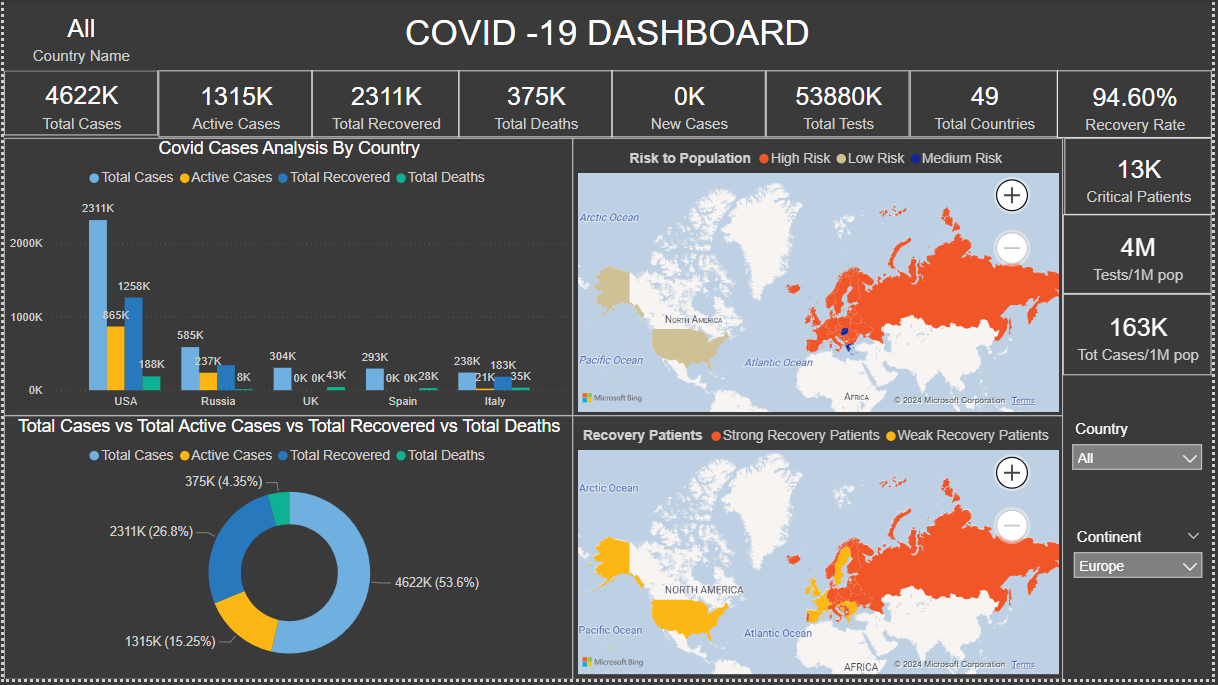

Layout of this report page (visuals, bound fields, positions):
{"tool":"powerbi","page":{"name":"Dashboard","canvas":[1280,720],"ordinal":0},"visuals":[{"type":"textbox","title":"COVID -19 DASHBOARD","box":[404.8,12.8,472,51.2],"z":0},{"type":"card","fields":{"Values":["Sum(Covid_data.TotalCases)"]},"box":[0,75.2,163.2,68.8],"z":1000},{"type":"card","fields":{"Values":["Sum(Covid_data.TotalRecovered)"]},"box":[326.4,75.2,156.8,70.4],"z":2000},{"type":"card","fields":{"Values":["Sum(Covid_data.Total Deaths)"]},"box":[481.6,75.2,163.2,70.4],"z":3000},{"type":"card","fields":{"Values":["Sum(Covid_data.ActiveCases)"]},"box":[163.2,75.2,163.2,70.4],"z":4000},{"type":"card","fields":{"Values":["Sum(Covid_data.New Cases)"]},"box":[644.8,75.2,163.2,70.4],"z":5000},{"type":"card","fields":{"Values":["Sum(Covid_data.Total Tests)"]},"box":[808,75.2,152,70.4],"z":6000},{"type":"card","fields":{"Values":["Count(Covid_data.Country)"]},"box":[960,75.2,156.8,70.4],"z":7000},{"type":"card","fields":{"Values":["Avg(Covid_data.PopulationImmunity)"]},"box":[1116.6,74.8,163.8,71.6],"z":8000},{"type":"clusteredColumnChart","title":"Covid Cases Analysis By Country","fields":{"Category":["Covid_data.Country"],"Y":["Sum(Covid_data.Total Cases)","Sum(Covid_data.Active Cases)","Sum(Covid_data.Total Recovered)","Sum(Covid_data.Total Deaths)"]},"box":[0,145.6,603.2,294.4],"z":9000},{"type":"donutChart","title":"Total Cases vs Total Active Cases vs Total Recovered vs Total Deaths","fields":{"Y":["Sum(Covid_data.Total Cases)","Sum(Covid_data.Active Cases)","Sum(Covid_data.Total Recovered)","Sum(Covid_data.Total Deaths)"]},"box":[0,440,603.2,280],"z":11000},{"type":"filledMap","fields":{"Category":["Covid_data.Country"],"Series":["Covid_data.RisktoPopulation"]},"box":[603.2,145.6,520,294.4],"z":12000},{"type":"filledMap","fields":{"Category":["Covid_data.Country"],"Series":["Covid_data.RecoveryPatients"]},"box":[603.2,440,520,280],"z":13000},{"type":"slicer","fields":{"Values":["Covid_data.Country"]},"box":[1123,440.6,157.5,100.2],"z":14000},{"type":"card","fields":{"Values":["Sum(Covid_data.Critical Patients)"]},"box":[1124.6,146.3,155.9,81.1],"z":15000},{"type":"card","fields":{"Values":["Sum(Covid_data.Tests/1M pop)"]},"box":[1123,227.5,157.5,84.3],"z":16000},{"type":"card","fields":{"Values":["Sum(Covid_data.Tot Cases/1M pop)"]},"box":[1123,311.8,157.5,85.9],"z":17000},{"type":"slicer","fields":{"Values":["Covid_data.Continent"]},"box":[1124.6,555.1,155.9,90.7],"z":18000},{"type":"card","fields":{"Values":["Covid_data.Country Card"]},"box":[0,1.6,163.2,73.6],"z":19000}]}

Visuals, with their boxes in screenshot pixels (x1, y1, x2, y2), scaled from the page's 1280x720 canvas onto the 1218x685 screenshot:
"COVID -19 DASHBOARD" textbox: bbox(385, 12, 834, 61)
card - Sum(Covid_data.TotalCases): bbox(0, 72, 155, 137)
card - Sum(Covid_data.TotalRecovered): bbox(311, 72, 460, 139)
card - Sum(Covid_data.Total Deaths): bbox(458, 72, 614, 139)
card - Sum(Covid_data.ActiveCases): bbox(155, 72, 311, 139)
card - Sum(Covid_data.New Cases): bbox(614, 72, 769, 139)
card - Sum(Covid_data.Total Tests): bbox(769, 72, 914, 139)
card - Count(Covid_data.Country): bbox(914, 72, 1063, 139)
card - Avg(Covid_data.PopulationImmunity): bbox(1063, 71, 1217, 139)
"Covid Cases Analysis By Country" clusteredColumnChart: bbox(0, 139, 574, 419)
"Total Cases vs Total Active Cases vs Total Recovered vs Total Deaths" donutChart: bbox(0, 419, 574, 684)
filledMap - Covid_data.Country x Covid_data.RisktoPopulation: bbox(574, 139, 1069, 419)
filledMap - Covid_data.Country x Covid_data.RecoveryPatients: bbox(574, 419, 1069, 684)
slicer - Covid_data.Country: bbox(1069, 419, 1217, 515)
card - Sum(Covid_data.Critical Patients): bbox(1070, 139, 1217, 216)
card - Sum(Covid_data.Tests/1M pop): bbox(1069, 216, 1217, 297)
card - Sum(Covid_data.Tot Cases/1M pop): bbox(1069, 297, 1217, 378)
slicer - Covid_data.Continent: bbox(1070, 528, 1217, 614)
card - Covid_data.Country Card: bbox(0, 2, 155, 72)
